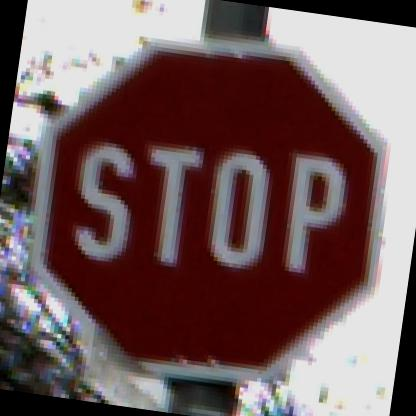stop: (0, 19, 415, 413)
